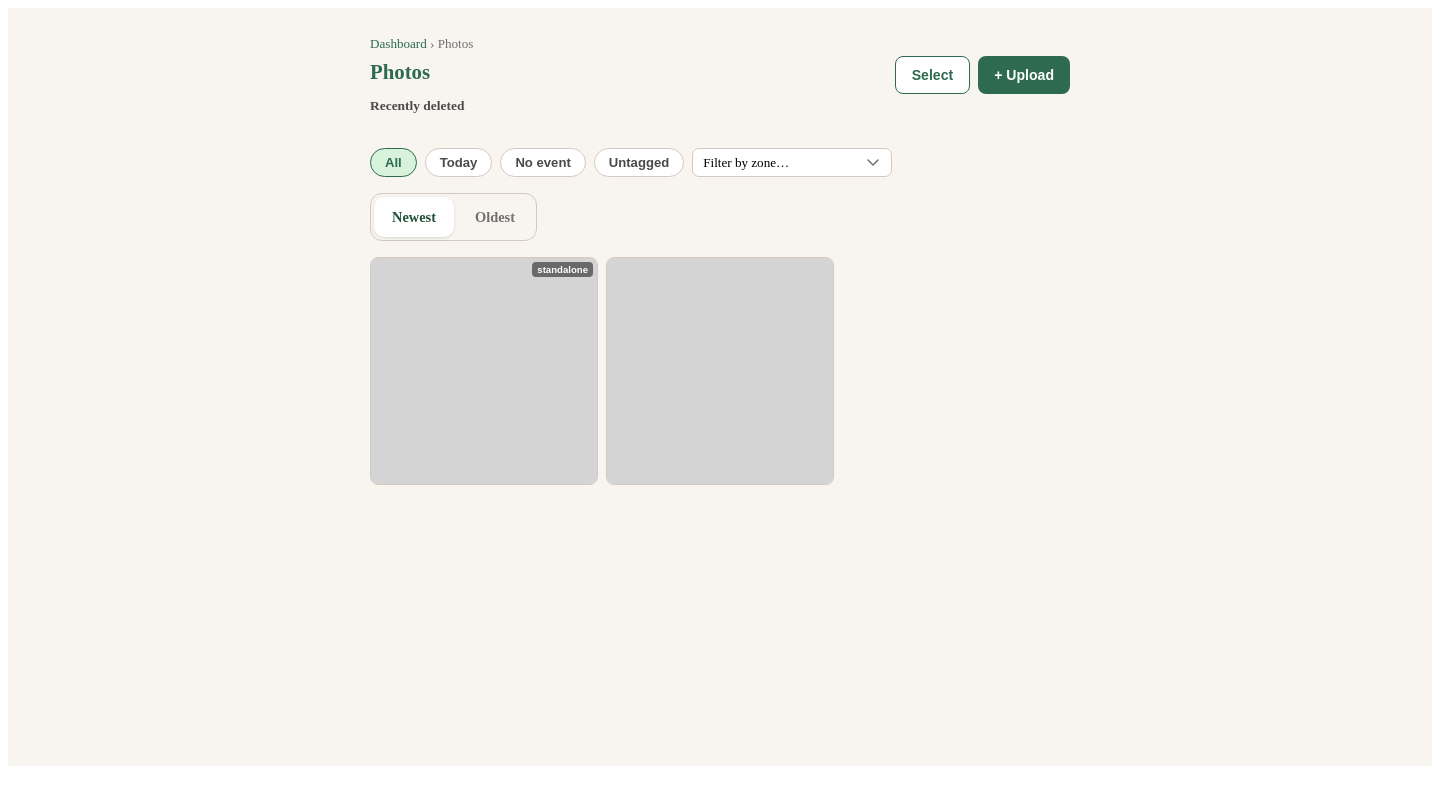
Test: W-PHOTODEL — the write is the SOFT delete, and only that › on success the photo leaves the grid, the modal closes, and the photo caches are invalidated
Click the button "standalone".
click(484, 371)  # box 370,257 -> 598,485
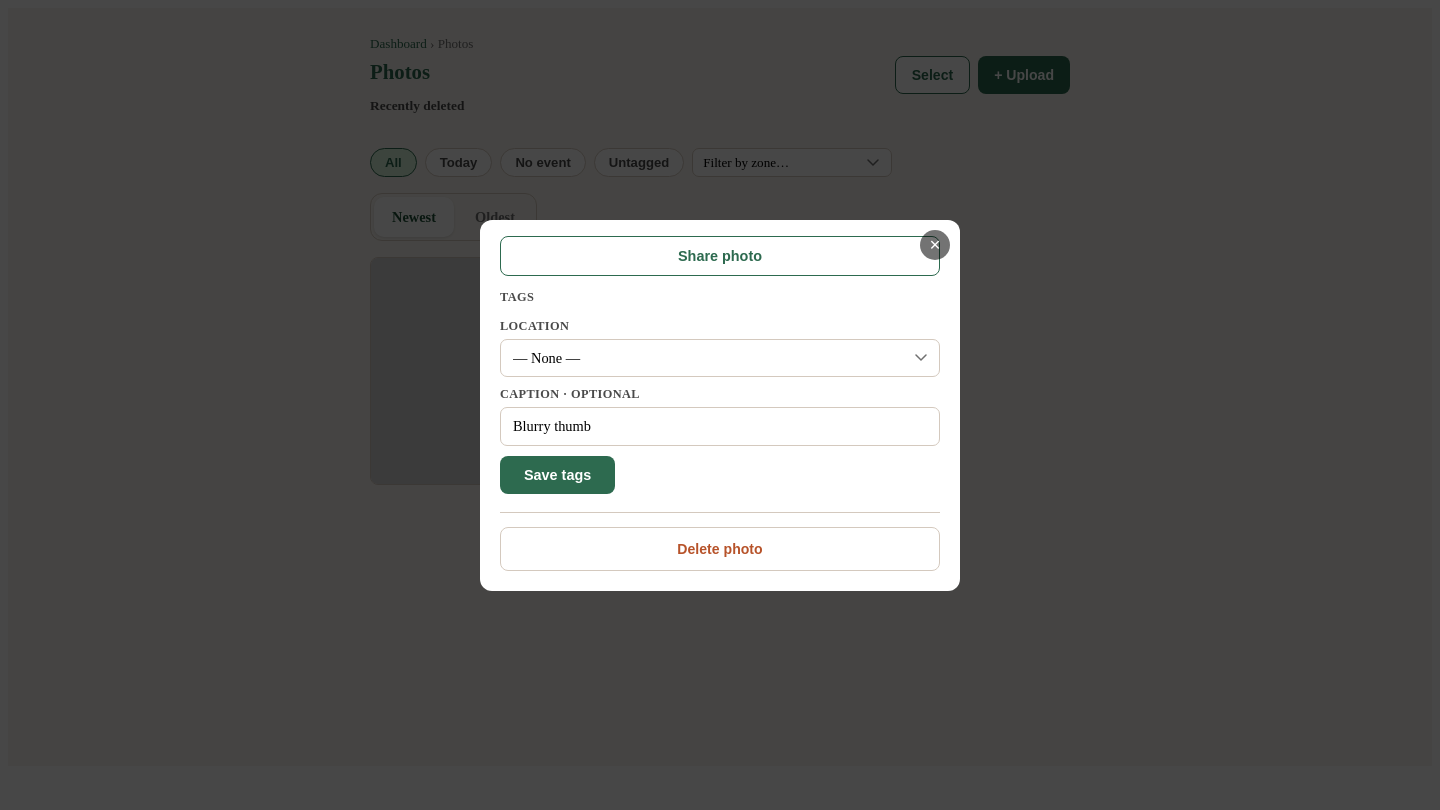
Click the button with test id "pl-photo-delete".
click(720, 548)  # box 500,526 -> 940,570
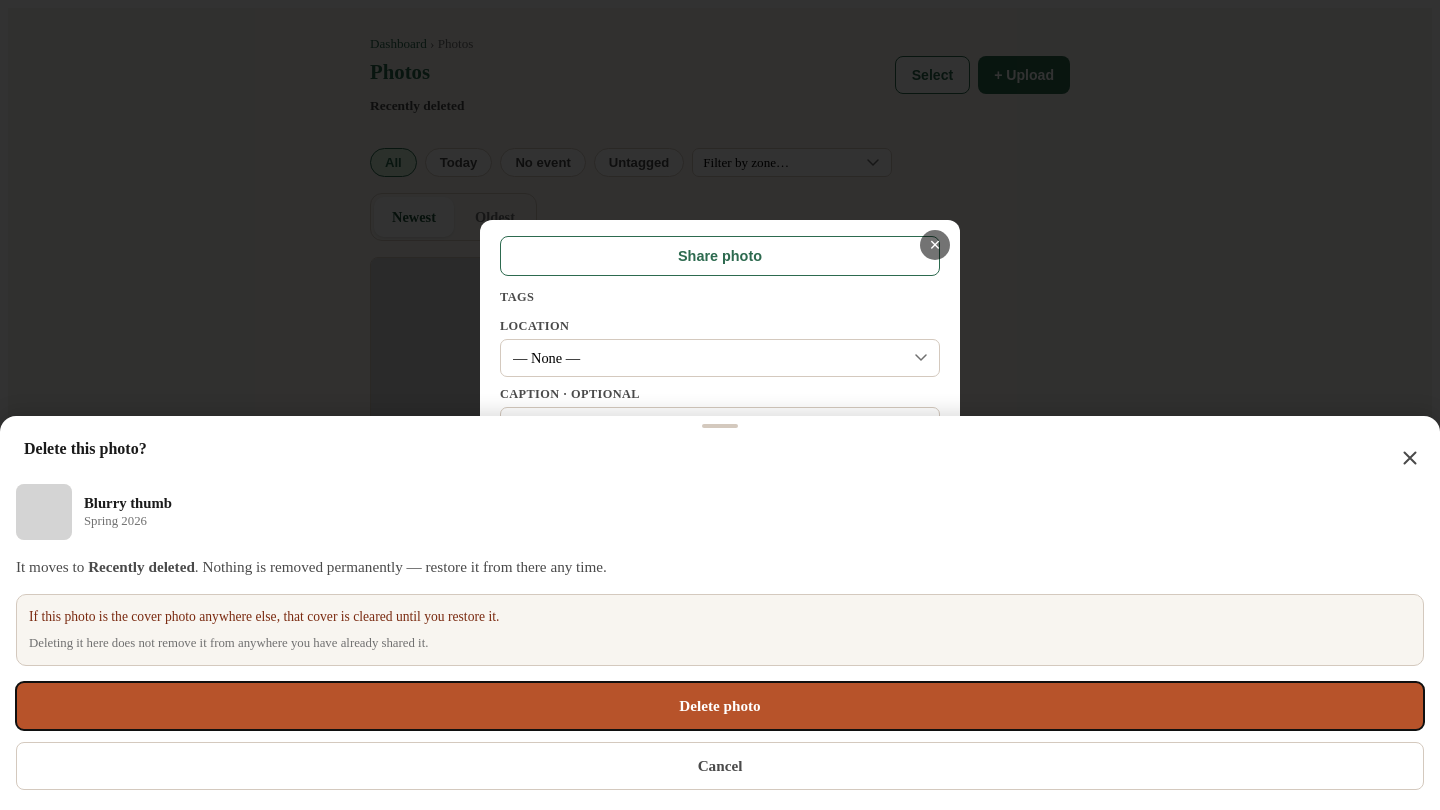
Click the button with test id "photo-delete-confirm".
click(720, 706)  # box 16,682 -> 1424,730
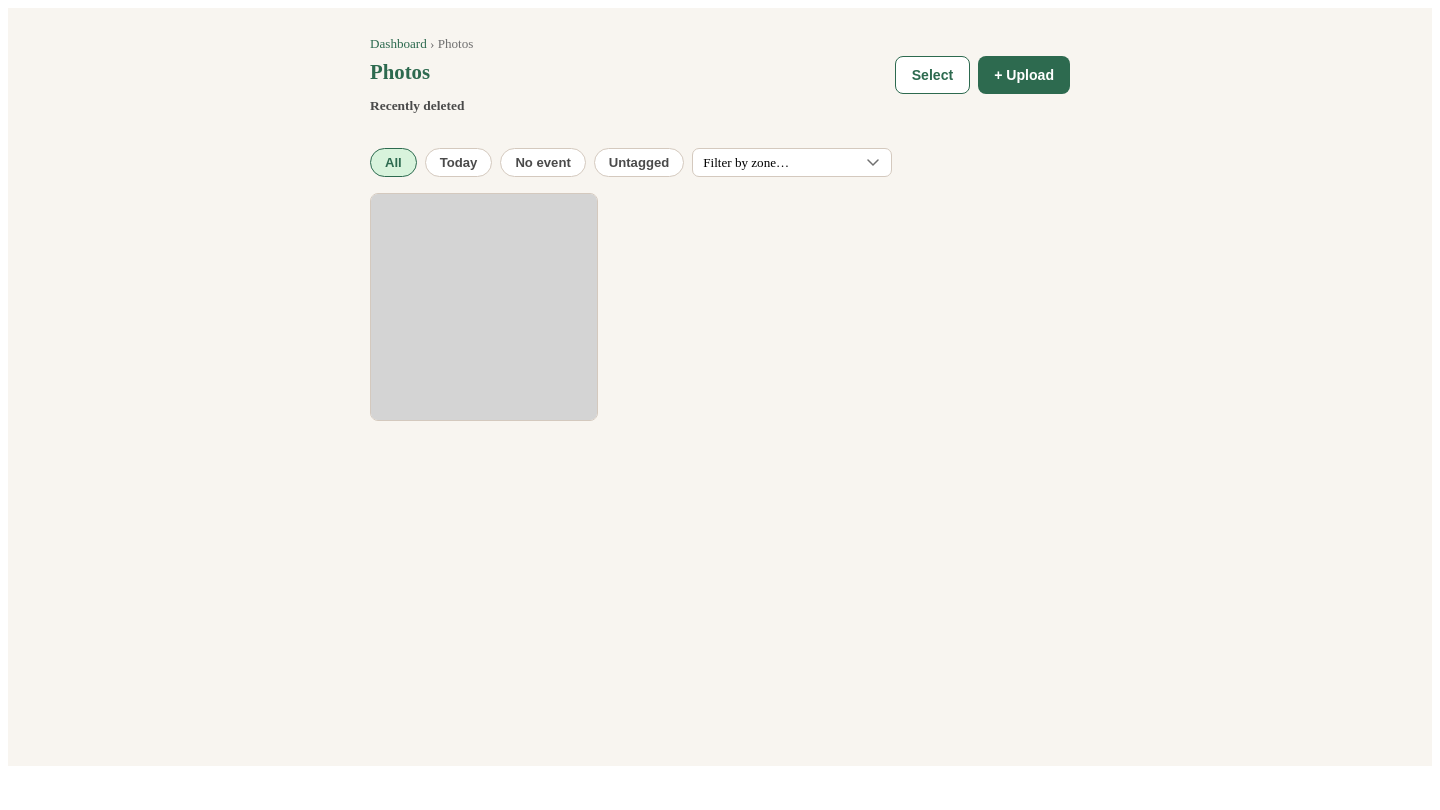
Check: the element with test id "pl-modal-body" is gone
Check: the button with test id "photo-delete-confirm" is gone
